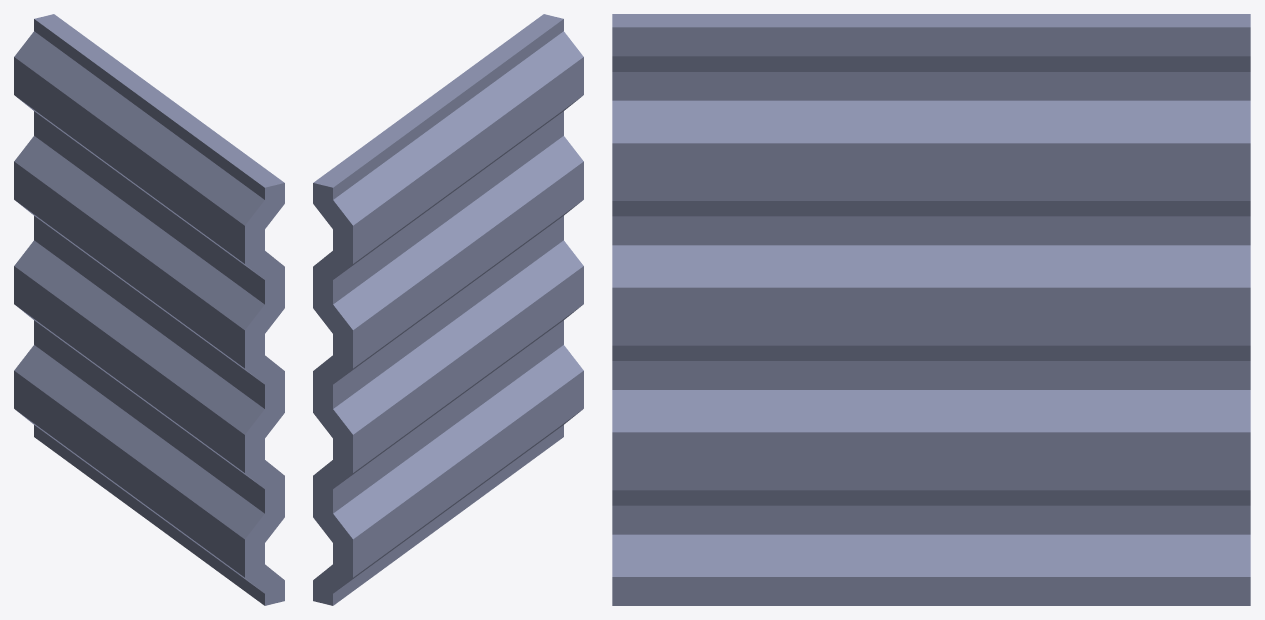
The model's file is plating.obj.
3 renders of one model, left to right at view 1: azimuth 30°, elevation 25°; view 2: azimuth 150°, elevation 25°; view 3: azimuth 270°, elevation 25°, orthographic. The views are drawn at different scales.
Size of the model in its own units: 0.1 by 1 by 1.
